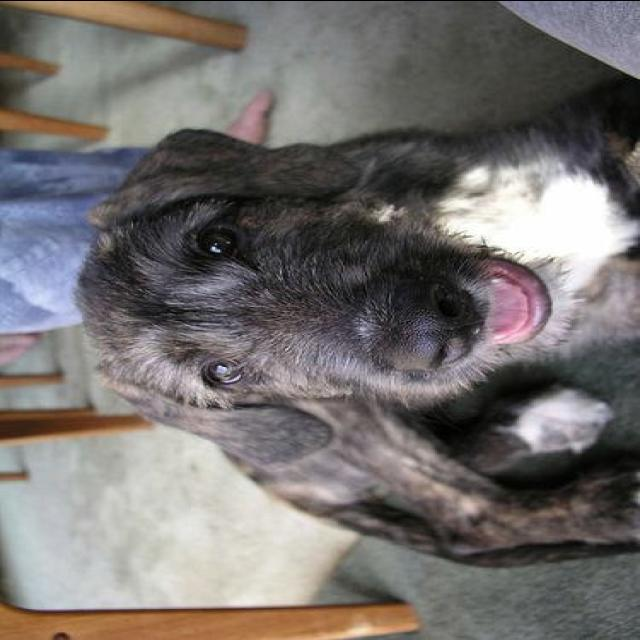irish_wolfhound: (66, 69, 638, 583)
